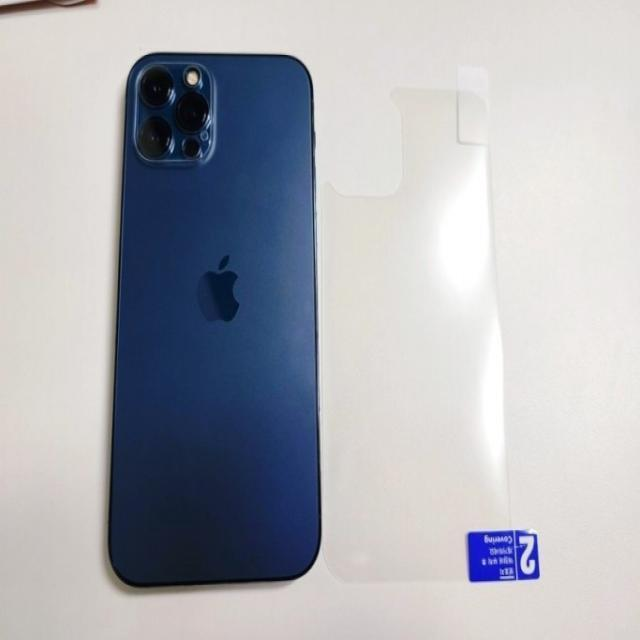phone: (106, 47, 322, 594)
